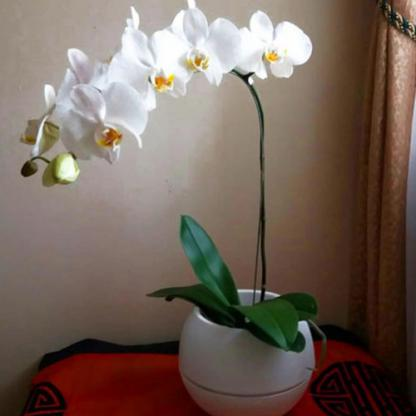ANGGREK: (13, 7, 334, 210)
